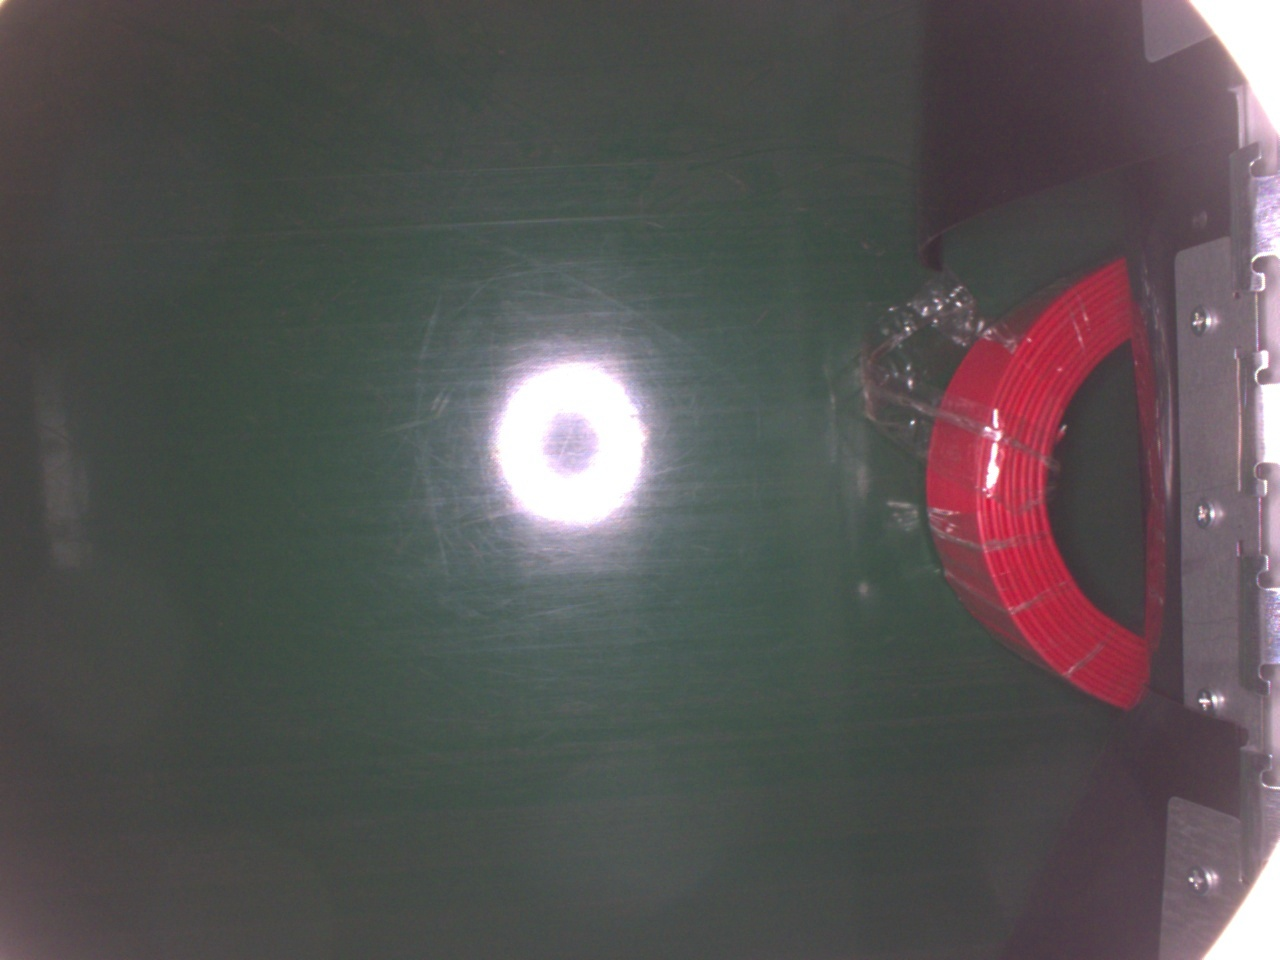red: (928, 255, 1147, 708)
